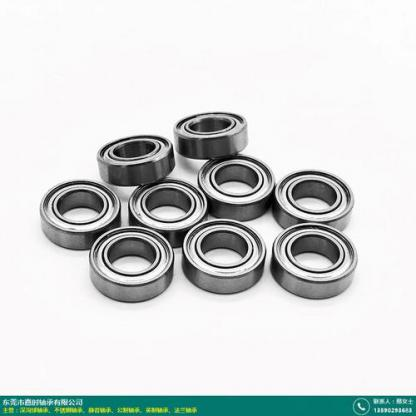FOD: (84, 224, 176, 305), (270, 222, 361, 302), (179, 219, 270, 295), (36, 176, 121, 251), (271, 166, 357, 234), (127, 176, 207, 247), (195, 154, 278, 220), (94, 131, 176, 188), (173, 108, 249, 160)
